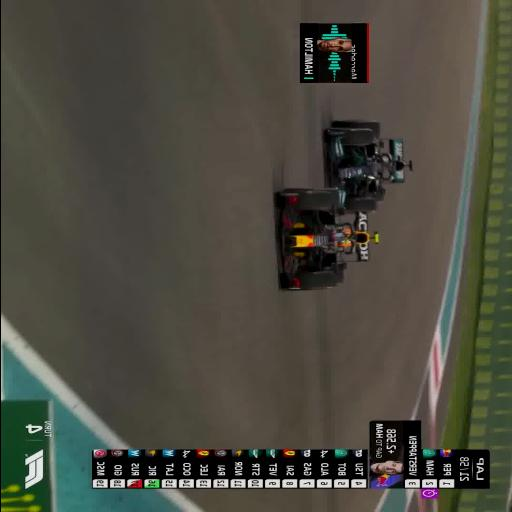f1_car: (275, 189, 378, 291), (324, 121, 411, 212)
